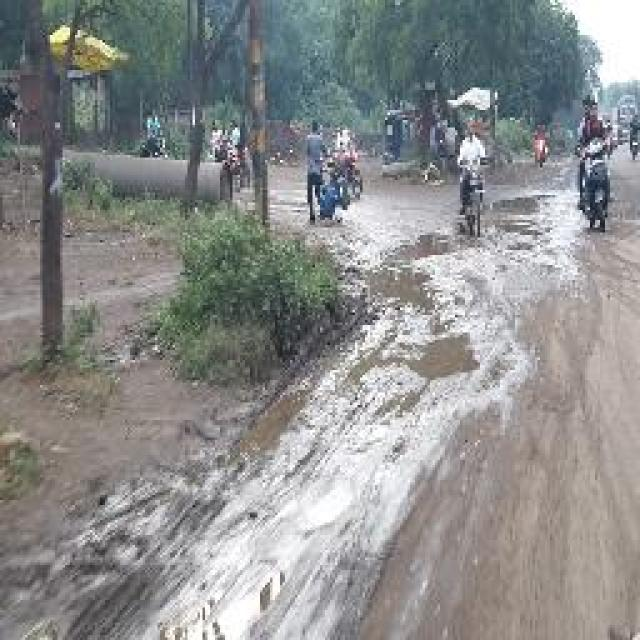stagnation: (393, 318, 489, 384)
